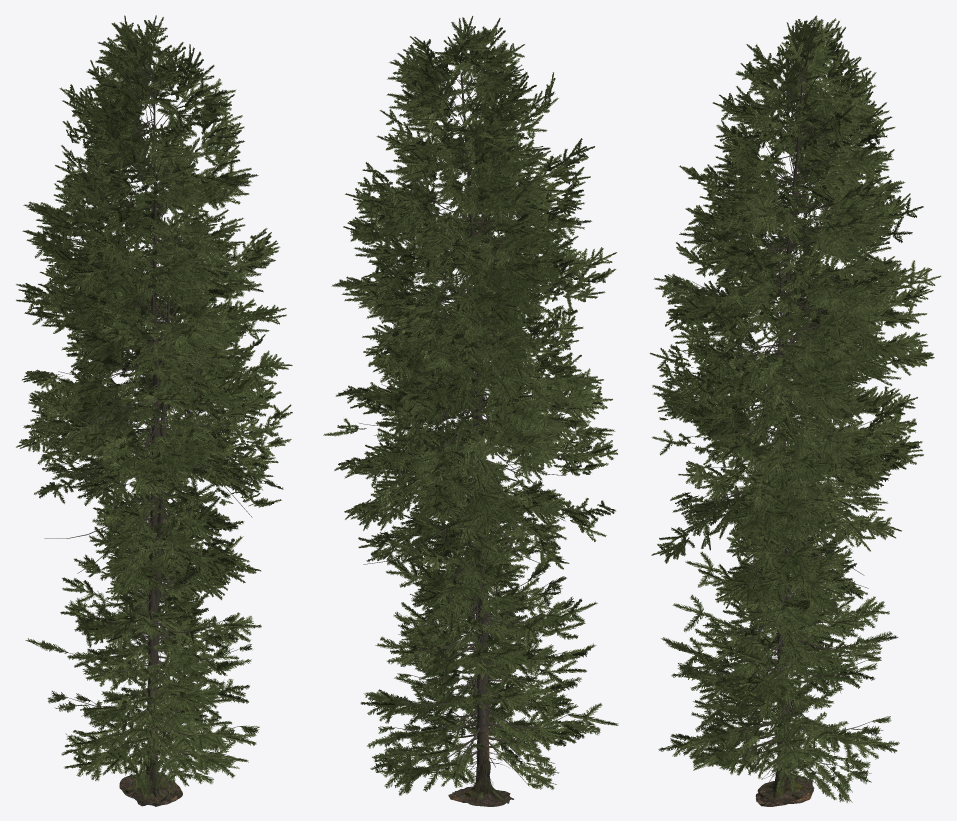
Rendered from fir.glb.
The picture shows the model from 3 angles, left to right: view 1: azimuth 30°, elevation 25°; view 2: azimuth 150°, elevation 25°; view 3: azimuth 270°, elevation 25°; orthographic projection. The views are drawn at different scales.
Parts seen in each view (by area): view 1: fir_tall_a_LOD0, fir_tall_b_LOD0, fir_young_a_LOD0, fir_young_b_LOD0, fir_tall_c_LOD0, fir_young_c_LOD0; view 2: fir_tall_a_LOD0, fir_tall_b_LOD0, fir_young_a_LOD0, fir_young_b_LOD0, fir_young_c_LOD0, fir_tall_c_LOD0; view 3: fir_tall_a_LOD0, fir_tall_b_LOD0, fir_young_a_LOD0, fir_tall_c_LOD0, fir_young_b_LOD0, fir_young_c_LOD0.
Part boxes in pixels (<box>): fir_tall_a_LOD0: <box>16,15,292,806</box>; fir_tall_b_LOD0: <box>28,216,291,802</box>; fir_young_a_LOD0: <box>25,424,261,796</box>; fir_young_b_LOD0: <box>61,475,256,778</box>; fir_tall_c_LOD0: <box>44,206,292,804</box>; fir_young_c_LOD0: <box>64,549,248,789</box>; fir_tall_a_LOD0: <box>331,16,616,804</box>; fir_tall_b_LOD0: <box>357,210,617,806</box>; fir_young_a_LOD0: <box>360,413,618,787</box>; fir_young_b_LOD0: <box>363,477,581,784</box>; fir_young_c_LOD0: <box>375,553,578,795</box>; fir_tall_c_LOD0: <box>323,181,596,806</box>; fir_tall_a_LOD0: <box>651,15,940,804</box>; fir_tall_b_LOD0: <box>652,228,923,806</box>; fir_young_a_LOD0: <box>661,435,898,791</box>; fir_tall_c_LOD0: <box>649,205,916,801</box>; fir_young_b_LOD0: <box>658,496,899,792</box>; fir_young_c_LOD0: <box>690,564,870,802</box>.
Size of what is drawn, in the model's own units: 6.85 by 18.96 by 6.5.
Materials: 2 (2 with a texture image).
